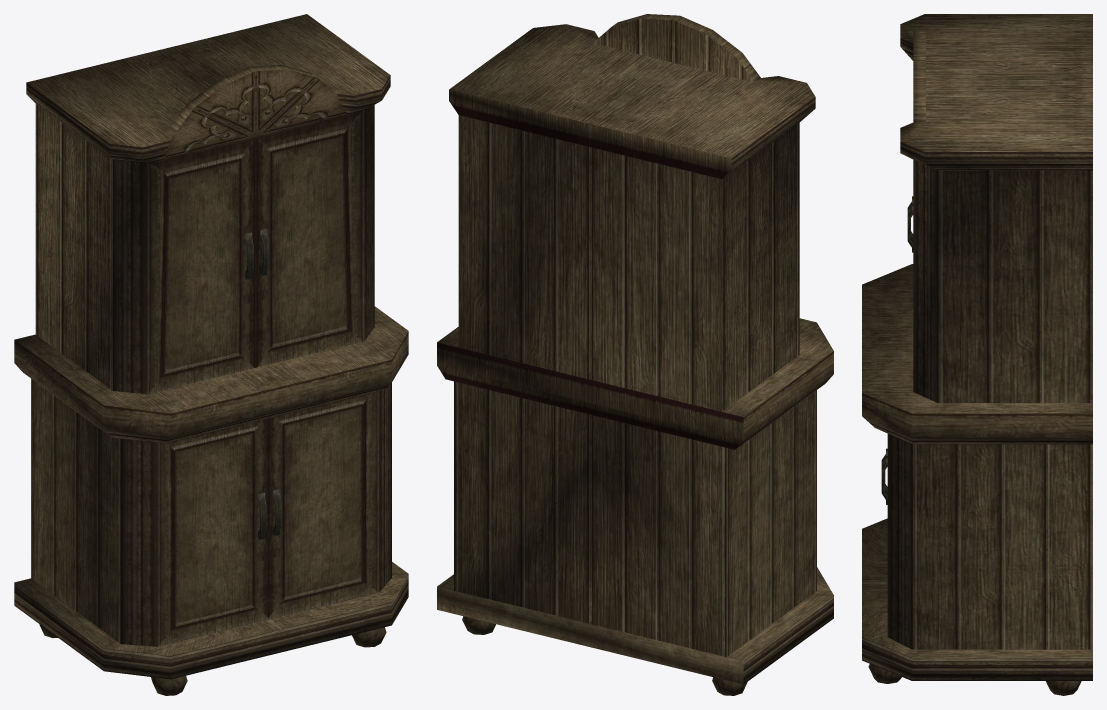
Rendered from GS_CITY_CUPBOARD_BROWN_01_KOZA.glb.
3 views of the same model, side by side, from view 1: azimuth 30°, elevation 25°; view 2: azimuth 150°, elevation 25°; view 3: azimuth 270°, elevation 25° (orthographic).
Parts seen in each view (by area): view 1: Mesh; view 2: Mesh; view 3: Mesh.
Part boxes in pixels (box(x1,y1,x2,y2)): Mesh: box(14, 14, 408, 695); Mesh: box(437, 14, 833, 695); Mesh: box(862, 14, 1092, 695).
Size of the model in its own units: 1.38 by 2.53 by 0.9.
Materials: 4 (4 with a texture image).
